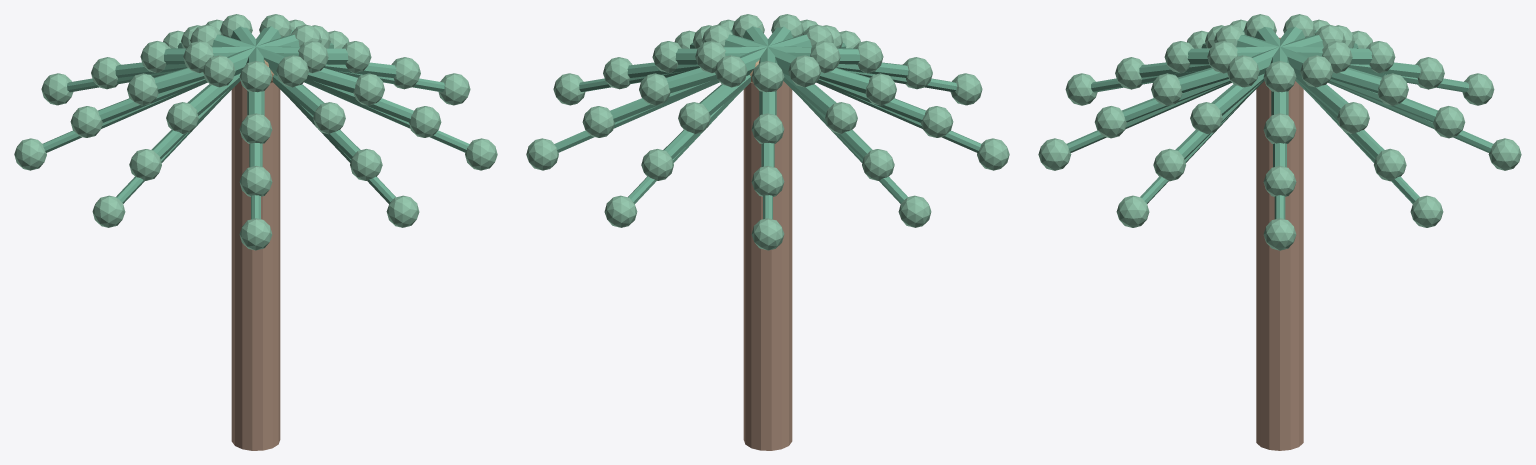
File: palm_tree.glb
3 views of the same model, side by side, from view 1: azimuth 30°, elevation 25°; view 2: azimuth 150°, elevation 25°; view 3: azimuth 270°, elevation 25° (orthographic).
Parts seen in each view (by area): view 1: palm_tree; view 2: palm_tree; view 3: palm_tree.
Part boxes in pixels (x1,y1,x2,y2): palm_tree: (14,14,497,450); palm_tree: (526,14,1009,450); palm_tree: (1038,14,1521,450).
Bounding box in the file's own units: 5.5 × 5.13 × 5.58.
